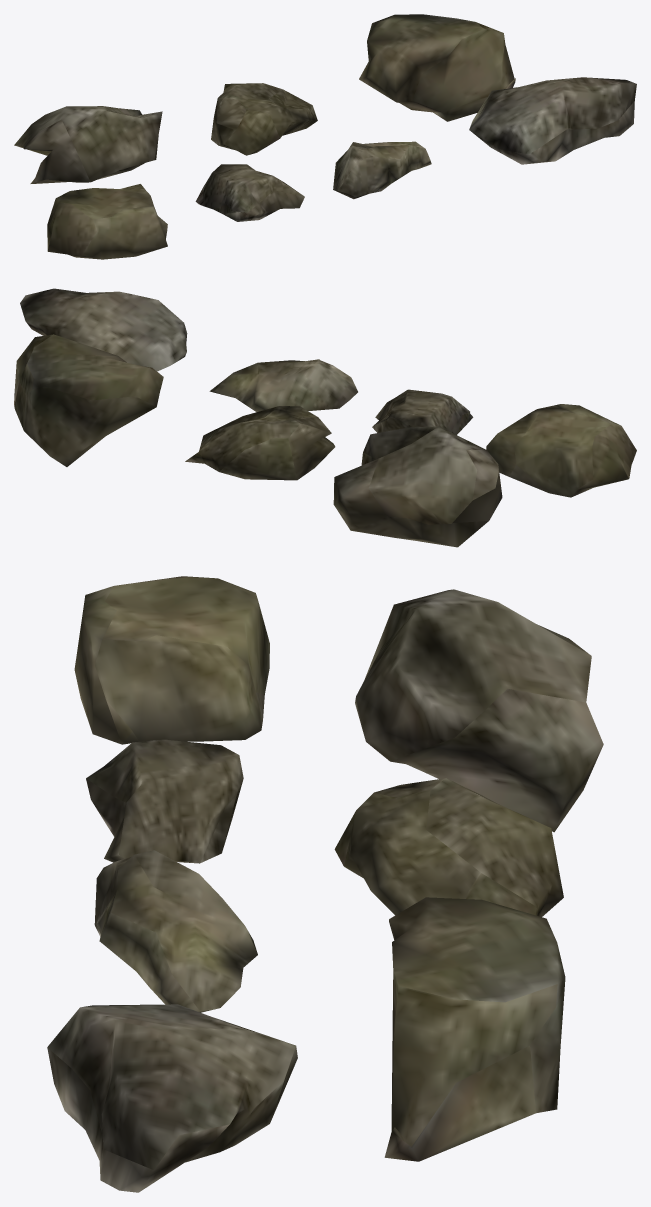
Rendered from pebbles_lo.glb.
3 renders of one model, top to bottom at view 1: azimuth 30°, elevation 25°; view 2: azimuth 150°, elevation 25°; view 3: azimuth 270°, elevation 25°, orthographic. The views are drawn at different scales.
Visible parts, largest first — view 1: rock_moss_set_02_rock13, rock_moss_set_02_rock10, rock_moss_set_02_rock11, rock_moss_set_02_rock07, rock_moss_set_02_rock12, rock_moss_set_02_rock08, rock_moss_set_02_rock09; view 2: rock_moss_set_02_rock11, rock_moss_set_02_rock13, rock_moss_set_02_rock07, rock_moss_set_02_rock10, rock_moss_set_02_rock12, rock_moss_set_02_rock09, rock_moss_set_02_rock08; view 3: rock_moss_set_02_rock11, rock_moss_set_02_rock13, rock_moss_set_02_rock10, rock_moss_set_02_rock07, rock_moss_set_02_rock12, rock_moss_set_02_rock09, rock_moss_set_02_rock08.
Part boxes in pixels (x1,y1,x2,y2): rock_moss_set_02_rock13: (359, 14, 515, 121); rock_moss_set_02_rock10: (469, 77, 636, 164); rock_moss_set_02_rock11: (14, 106, 162, 183); rock_moss_set_02_rock07: (47, 184, 167, 259); rock_moss_set_02_rock12: (211, 83, 317, 155); rock_moss_set_02_rock08: (195, 164, 304, 221); rock_moss_set_02_rock09: (333, 141, 431, 199); rock_moss_set_02_rock11: (333, 426, 502, 547); rock_moss_set_02_rock13: (14, 334, 163, 466); rock_moss_set_02_rock07: (486, 404, 636, 497); rock_moss_set_02_rock10: (20, 288, 187, 371); rock_moss_set_02_rock12: (185, 406, 335, 480); rock_moss_set_02_rock09: (209, 359, 357, 412); rock_moss_set_02_rock08: (372, 389, 473, 434); rock_moss_set_02_rock11: (355, 589, 603, 832); rock_moss_set_02_rock13: (384, 897, 565, 1161); rock_moss_set_02_rock10: (47, 1004, 297, 1192); rock_moss_set_02_rock07: (74, 576, 269, 744); rock_moss_set_02_rock12: (334, 778, 563, 916); rock_moss_set_02_rock09: (94, 850, 257, 1012); rock_moss_set_02_rock08: (86, 739, 243, 863).
Size of the model in its own units: 8.26 by 1.3 by 3.41.
Materials: 1 (1 with a texture image).
